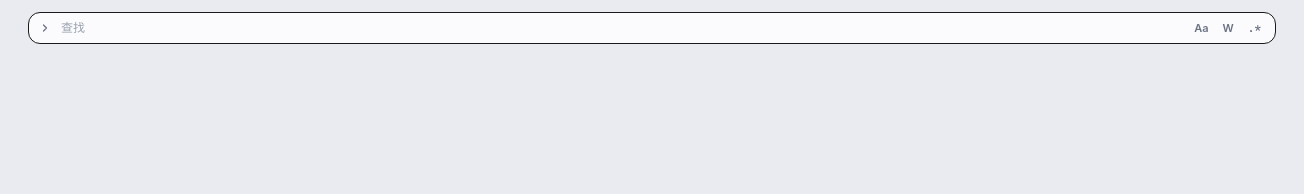
WorkspaceSearchPanel › 替换按钮在无结果 / 空 replacement / invalid regex 时 disabled
默认折叠,先展开替换行才能拿到按钮
Click the button with test id "workspace-search-toggle-replace".
click(45, 28)  # box [33,16,57,40]
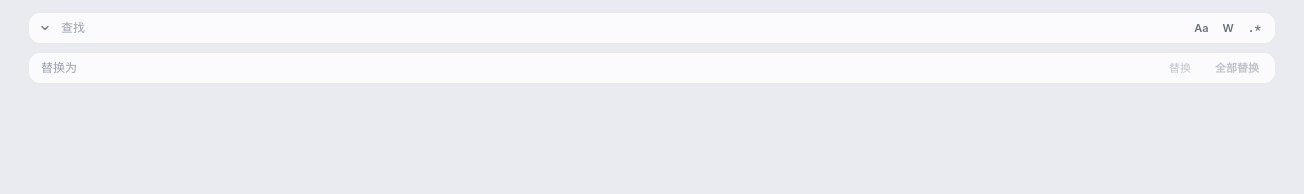
Check: the button with test id "workspace-search-replace-one" is disabled, box [1161,58,1199,78]
Check: the button with test id "workspace-search-replace-all" is disabled, box [1207,58,1267,78]
输入查询得到结果
Type "needle" into the field with test id "workspace-search-input".
click(609, 28); type("needle")  # box [33,21,1184,35]
Wait 260 ms
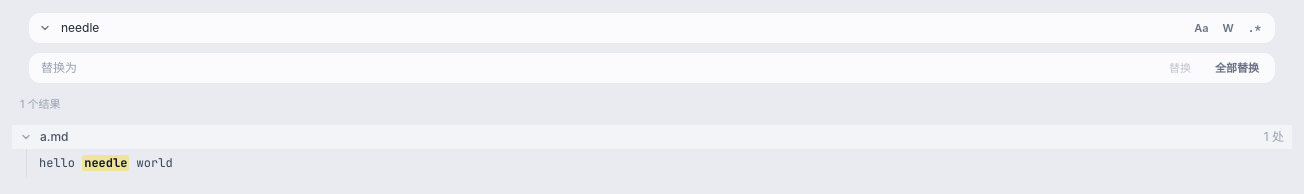
Check: the button with test id "workspace-search-replace-one" is disabled, box [1161,58,1199,78]
Check: the button with test id "workspace-search-replace-all" is enabled, box [1207,58,1267,78]
填 replacement:替换 enabled
Type "knife" into the field with test id "workspace-search-replacement".
click(597, 68); type("knife")  # box [41,60,1153,76]
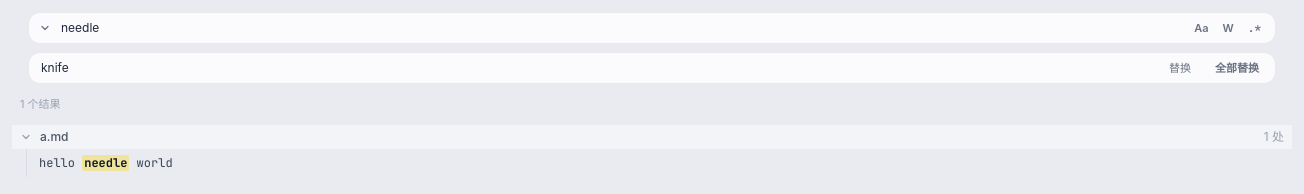
Check: the button with test id "workspace-search-replace-one" is enabled, box [1161,58,1199,78]
